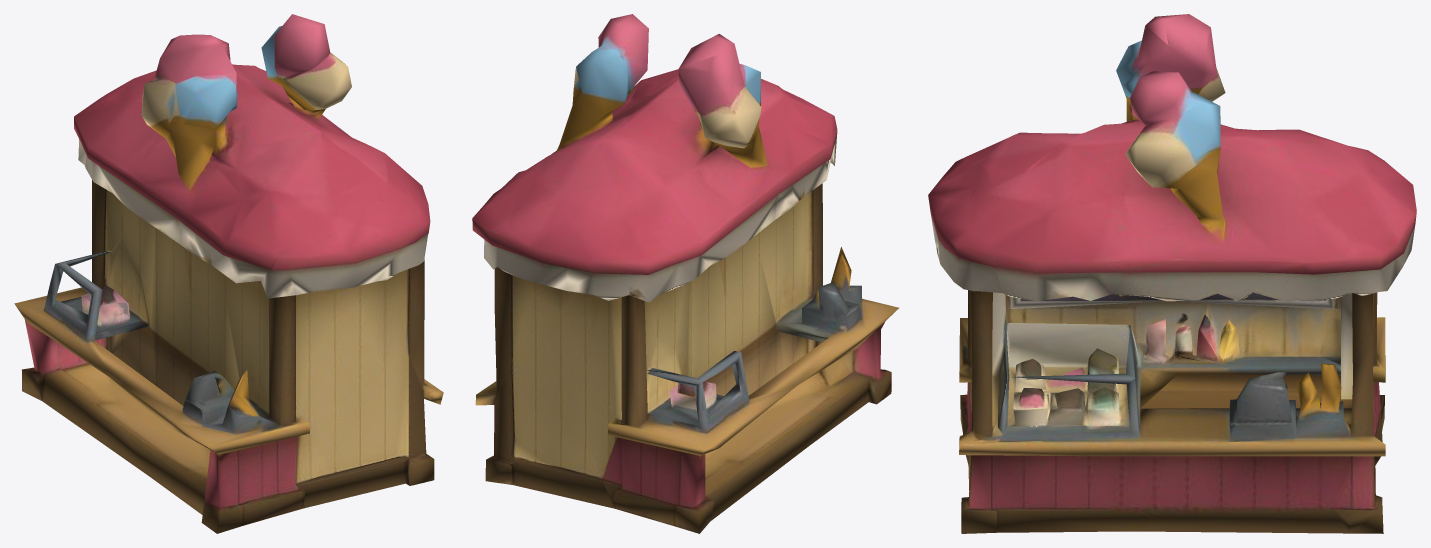
The model's file is ice-cream.glb.
The picture shows the model from 3 angles, left to right: view 1: azimuth 30°, elevation 25°; view 2: azimuth 150°, elevation 25°; view 3: azimuth 270°, elevation 25°; orthographic projection. The views are drawn at different scales.
Parts seen in each view (by area): view 1: tripo_node_55ed155e-0857-4bfb-9676-3f86dad0274f; view 2: tripo_node_55ed155e-0857-4bfb-9676-3f86dad0274f; view 3: tripo_node_55ed155e-0857-4bfb-9676-3f86dad0274f.
Part boxes in pixels (left/top/right/bottom): tripo_node_55ed155e-0857-4bfb-9676-3f86dad0274f: left=14, top=14, right=443, bottom=533; tripo_node_55ed155e-0857-4bfb-9676-3f86dad0274f: left=472, top=14, right=899, bottom=533; tripo_node_55ed155e-0857-4bfb-9676-3f86dad0274f: left=928, top=14, right=1416, bottom=533.
Bounding box in the file's own units: 0.6389 × 1 × 0.9944.
1 material, 1 textured.
